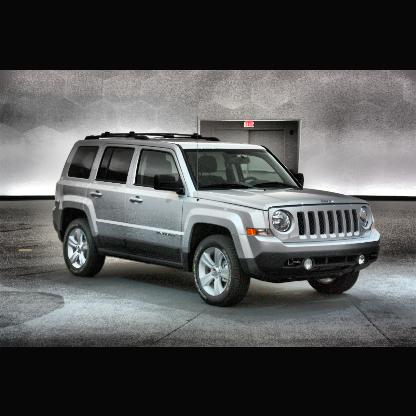Jeep Patriot SUV 2012: (54, 132, 384, 305)
